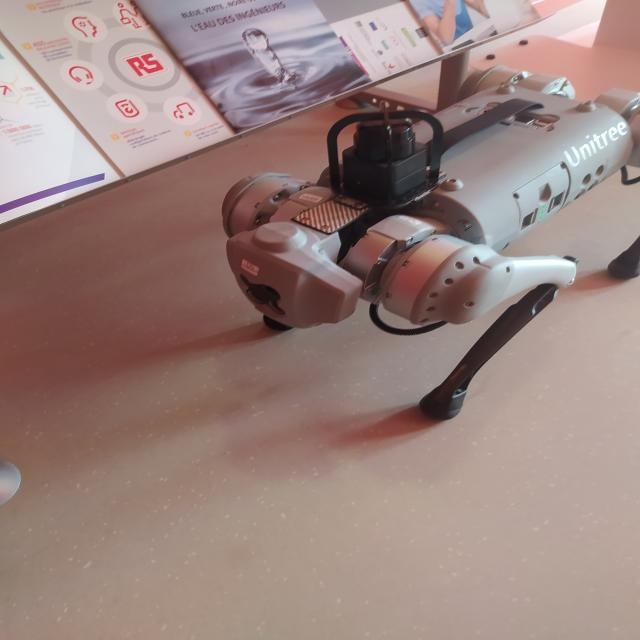unitree-go1-robot: (229, 55, 640, 417)
